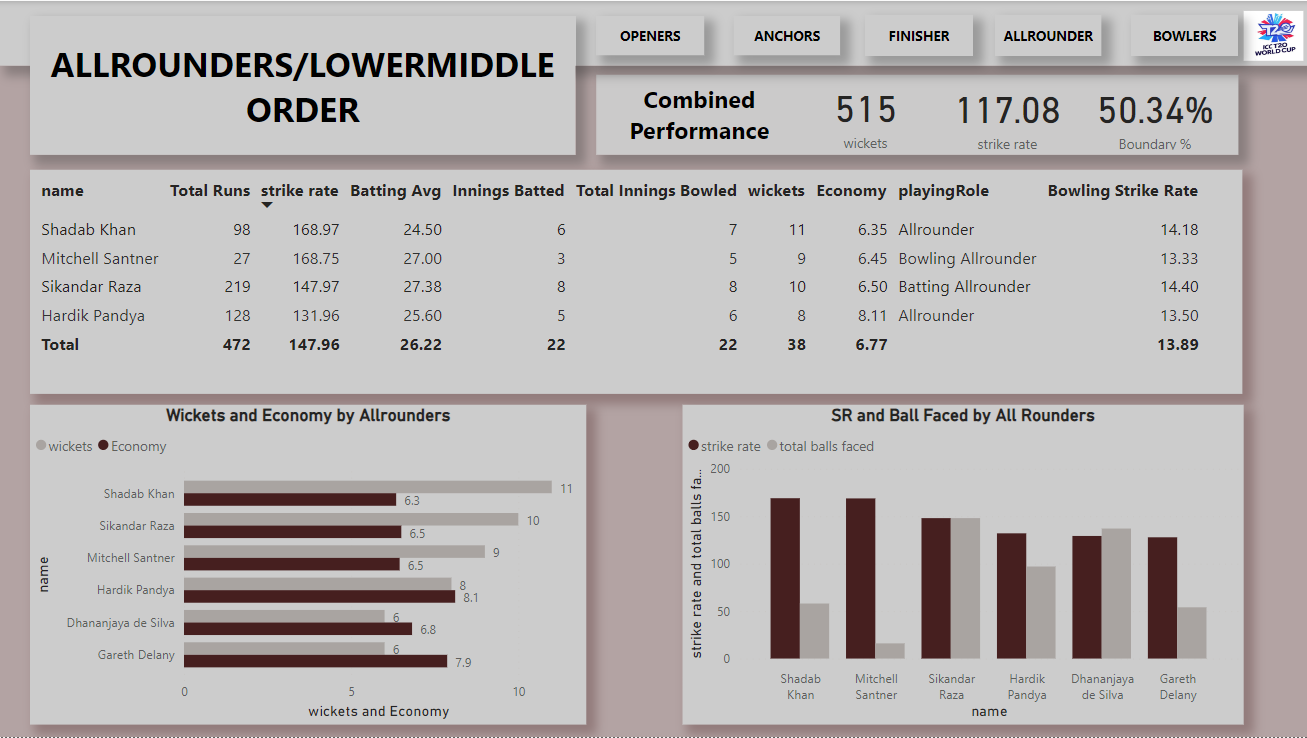

This screenshot's page, from the dashboard's own definition file:
{"tool":"powerbi","page":{"name":"All Rounders","canvas":[1280,720],"ordinal":3},"visuals":[{"type":"shape","box":[583.1,72.1,628.3,78.2],"z":0},{"type":"card","fields":{"Values":["Key Measures.Boundary %"]},"box":[1065.9,73.3,127.1,77],"z":1000},{"type":"shape","box":[588,74.6,191.9,72.1],"z":2000},{"type":"card","fields":{"Values":["Key Measures.strike rate"]},"box":[925.4,73.3,119.8,77],"z":3000},{"type":"card","fields":{"Values":["Key Measures.wickets"]},"box":[779.9,72.1,133.2,78.2],"z":4000},{"type":"shape","box":[0,0,1279.9,63.6],"z":5000},{"type":"image","box":[1211.4,4.9,68.5,58.7],"z":6000},{"type":"shape","box":[582.7,15.1,105.6,38.4],"z":7000},{"type":"shape","box":[717.1,15.1,104.2,38.4],"z":8000},{"type":"shape","box":[845.9,13.7,105.6,39.8],"z":9000},{"type":"shape","box":[973.4,13.7,104.2,39.8],"z":10000},{"type":"shape","box":[1106.4,13.7,104.2,39.8],"z":11000},{"type":"shape","box":[28.8,15.1,533.3,135.7],"z":12000},{"type":"tableEx","fields":{"Values":["Information.name","Key Measures.Total Runs","Key Measures.Strike rate","Key Measures.Batting Avg","Key Measures.Total Innings Batted","Key Measures.Total Innings Bowled","Key Measures.wickets","Key Measures.Economy","Information.playingRole","Key Measures.Bowling Strike Rate"]},"box":[28.8,164.5,1186,219.4],"z":13000},{"type":"lineClusteredColumnComboChart","title":"SR and Ball Faced by All Rounders","fields":{"Category":["Information.name"],"Y":["Key Measures.Strike rate","Key Measures.total balls faced"]},"box":[667.4,394.8,548.9,312.9],"z":14000},{"type":"clusteredBarChart","title":"Wickets and Economy by Allrounders","fields":{"Category":["Information.name"],"Y":["Key Measures.wickets","Key Measures.Economy"]},"box":[29.3,394.8,544,312.9],"z":15000}]}

Visuals, with their boxes in screenshot pixels (x1, y1, x2, y2), scaled from the page's 1280x720 canvas onto the 1307x738 screenshot:
shape: bbox=(595, 74, 1237, 154)
card - Key Measures.Boundary %: bbox=(1088, 75, 1218, 154)
shape: bbox=(600, 76, 796, 150)
card - Key Measures.strike rate: bbox=(945, 75, 1067, 154)
card - Key Measures.wickets: bbox=(796, 74, 932, 154)
shape: bbox=(0, 0, 1306, 65)
image: bbox=(1237, 5, 1306, 65)
shape: bbox=(595, 15, 703, 55)
shape: bbox=(732, 15, 839, 55)
shape: bbox=(864, 14, 972, 55)
shape: bbox=(994, 14, 1100, 55)
shape: bbox=(1130, 14, 1236, 55)
shape: bbox=(29, 15, 574, 155)
tableEx - Information.name x Key Measures.Total Runs: bbox=(29, 169, 1240, 393)
"SR and Ball Faced by All Rounders" lineClusteredColumnComboChart: bbox=(681, 405, 1242, 725)
"Wickets and Economy by Allrounders" clusteredBarChart: bbox=(30, 405, 585, 725)
